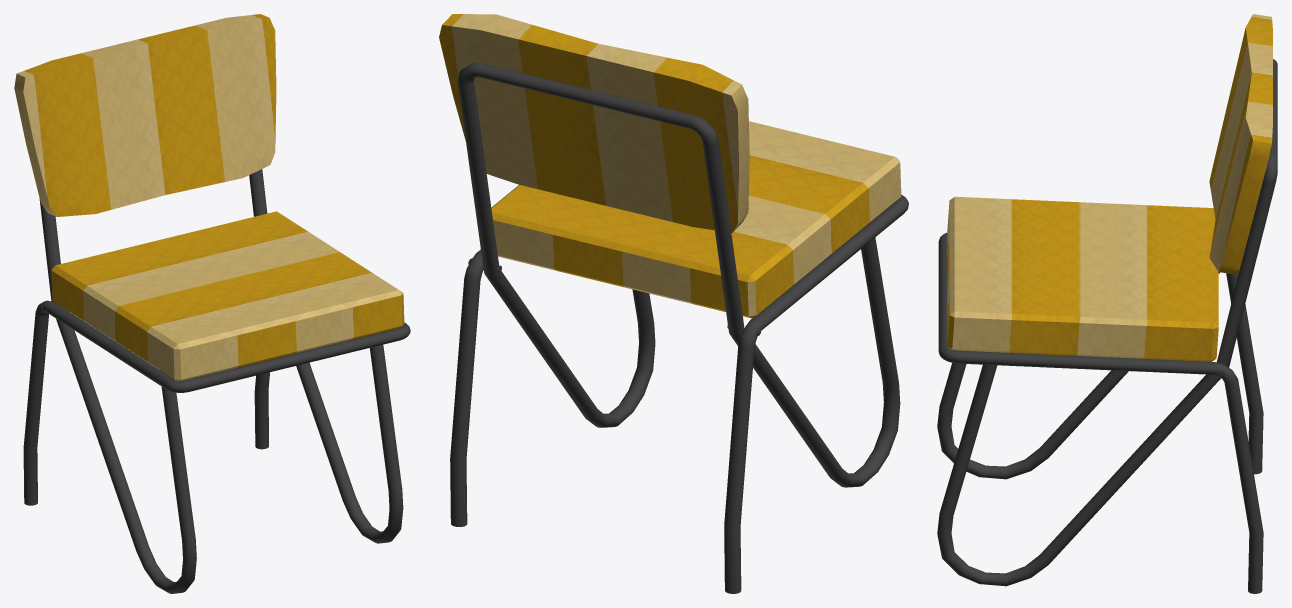
The model's file is sh_scopia_chair3.glb.
3 renders of one model, left to right at view 1: azimuth 30°, elevation 25°; view 2: azimuth 150°, elevation 25°; view 3: azimuth 270°, elevation 25°, orthographic. The views are drawn at different scales.
Bounding box in the file's own units: 0.522 × 0.859 × 0.576.
2 materials, 1 textured.
